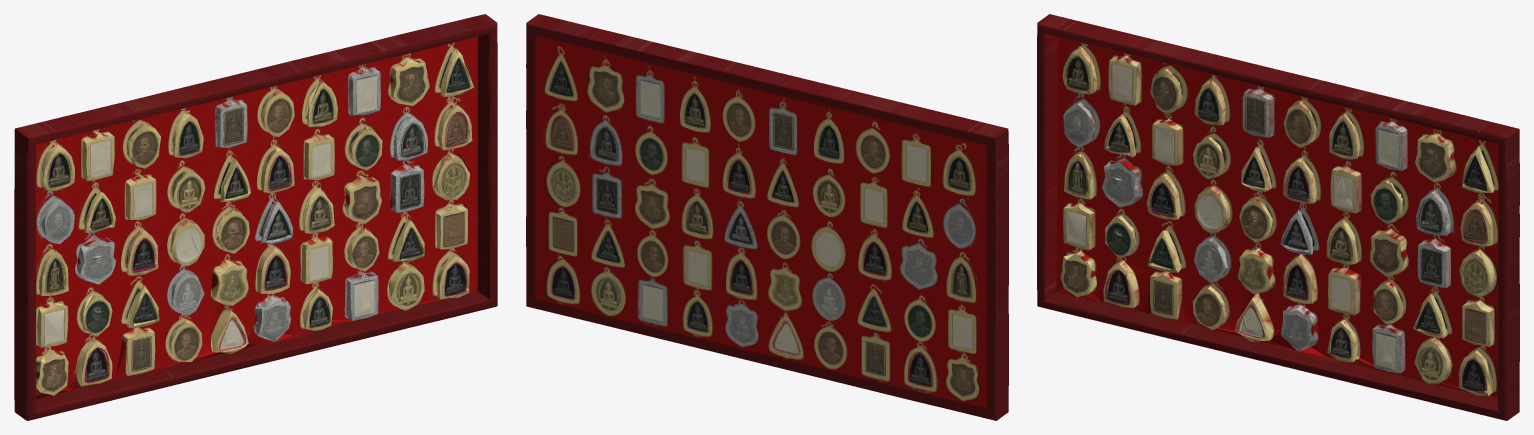
The model's file is trayfar.glb.
The picture shows the model from 3 angles, left to right: view 1: azimuth 30°, elevation 25°; view 2: azimuth 150°, elevation 25°; view 3: azimuth 330°, elevation 25°; orthographic projection.
Visible parts, largest first — view 1: tray_far, tray_mid; view 2: tray_far, tray_mid; view 3: tray_far, tray_mid.
Boxes of the visible parts, bbox=[...] form: tray_far: bbox=[14, 28, 497, 417]; tray_mid: bbox=[14, 14, 497, 420]; tray_far: bbox=[526, 22, 1008, 420]; tray_mid: bbox=[526, 14, 1008, 420]; tray_far: bbox=[1037, 19, 1519, 420]; tray_mid: bbox=[1037, 14, 1519, 420].
Size of the model in its own units: 1.9 by 1.1 by 0.0971.
Materials: 1 (1 with a texture image).
